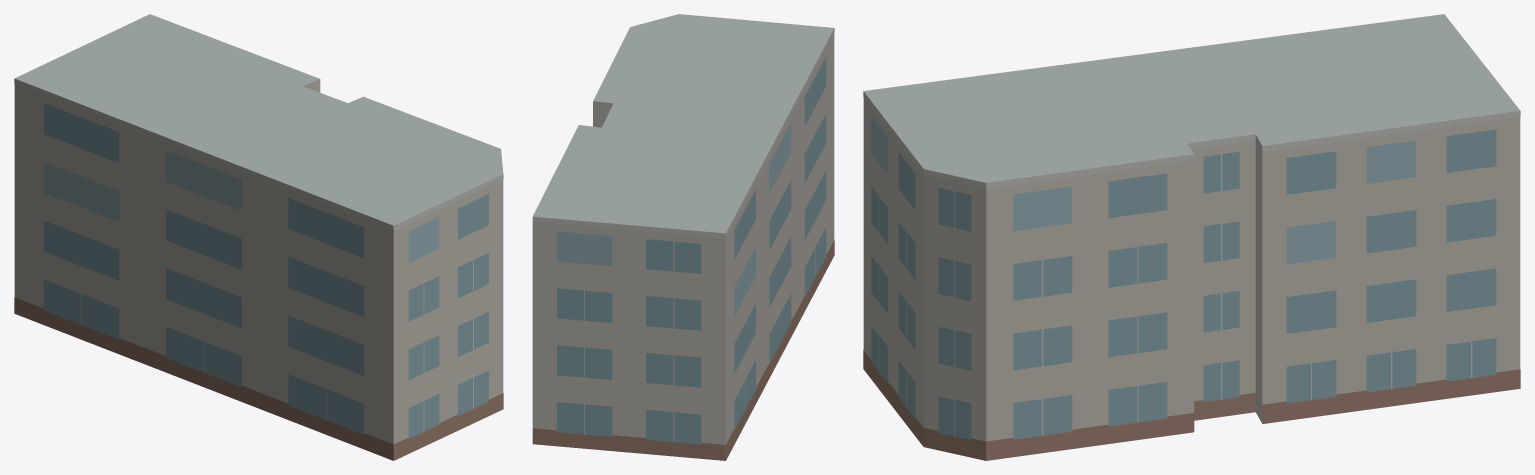
Rendered from survey-upis-32629000.glb.
3 views of the same model, side by side, from view 1: azimuth 30°, elevation 25°; view 2: azimuth 150°, elevation 25°; view 3: azimuth 270°, elevation 25° (orthographic). The views are drawn at different scales.
Visible parts, largest first — view 1: survey-upis-32629000.tmp; view 2: survey-upis-32629000.tmp; view 3: survey-upis-32629000.tmp.
Boxes of the visible parts, box(x1,y1,x2,y2) form: survey-upis-32629000.tmp: box(14, 14, 503, 460); survey-upis-32629000.tmp: box(532, 14, 834, 460); survey-upis-32629000.tmp: box(863, 14, 1520, 460).
Bounding box in the file's own units: 14.86 × 11.4 × 24.43.
